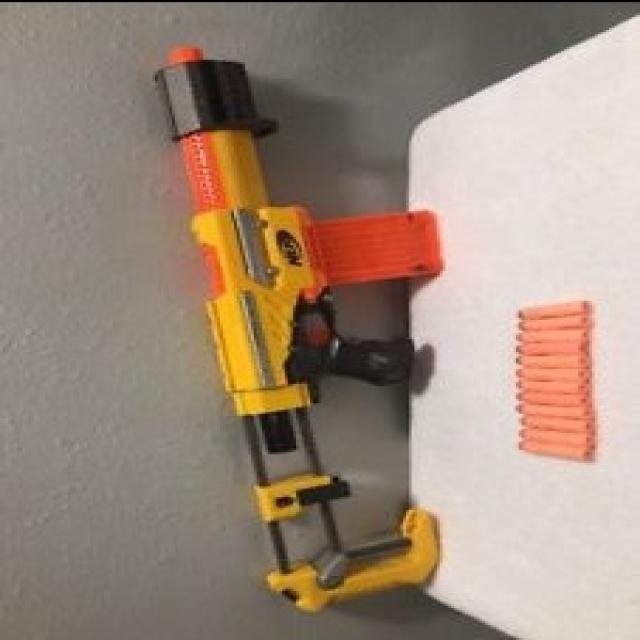Nerf gun: (139, 38, 447, 616)
